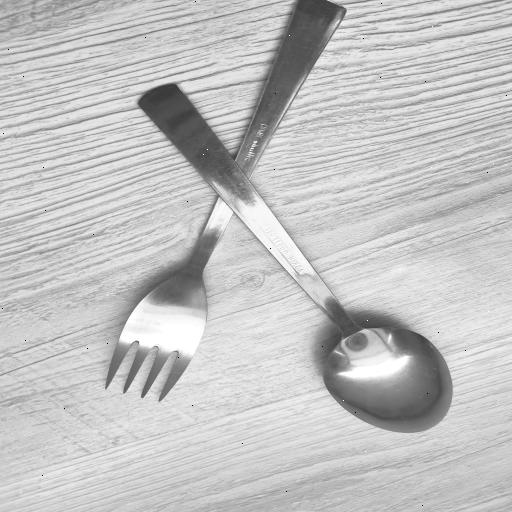fork: (105, 0, 345, 405)
spoon: (133, 86, 462, 440)
